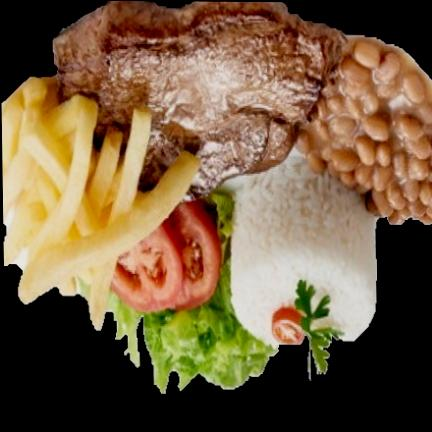beans: (296, 32, 432, 222)
meat: (50, 1, 347, 200)
potato: (1, 73, 201, 333)
rice: (232, 165, 378, 349)
salad: (108, 193, 277, 397)
tomato: (111, 201, 216, 310), (271, 312, 306, 346)
